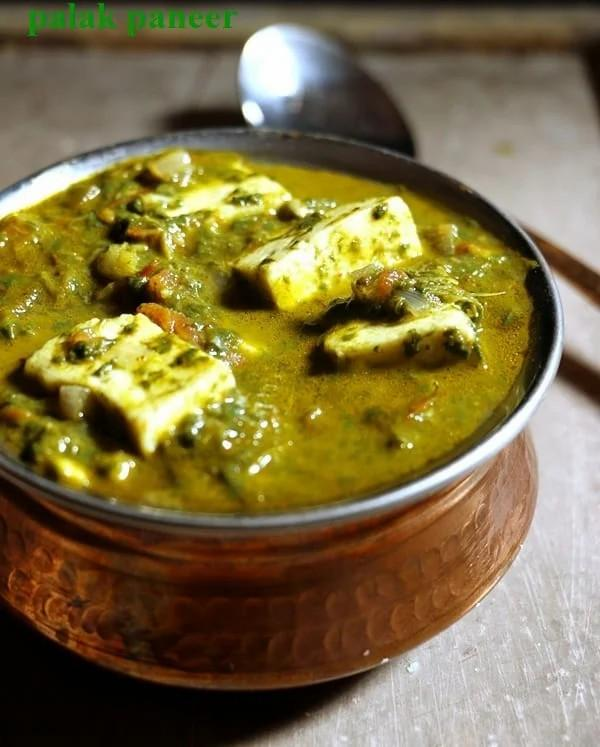PalakPaneer: (0, 141, 541, 517)
